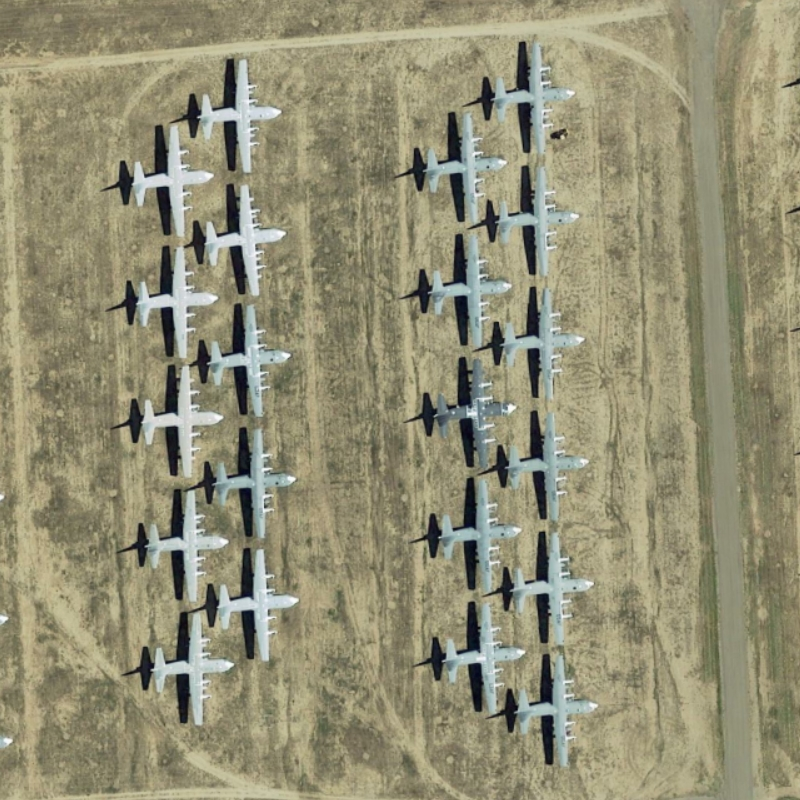A2: (119, 240, 227, 362), (488, 153, 585, 282), (211, 543, 309, 669), (192, 49, 289, 176), (201, 300, 305, 418), (493, 283, 593, 405), (487, 28, 582, 156), (418, 100, 513, 228), (509, 648, 603, 775), (505, 525, 603, 646), (204, 422, 301, 544), (142, 487, 242, 605), (435, 595, 529, 719), (498, 410, 599, 523), (149, 611, 241, 733), (132, 361, 224, 482), (423, 229, 515, 350), (432, 470, 524, 589), (115, 121, 208, 237), (426, 352, 516, 468), (198, 184, 293, 292)
